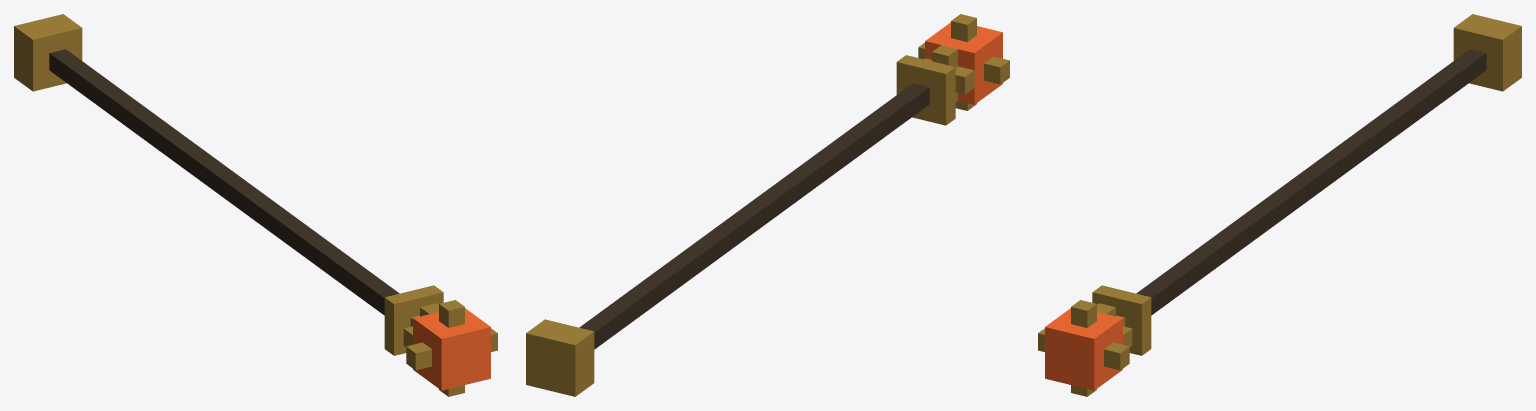
Rendered from vox_staff_prism.glb.
3 renders of one model, left to right at view 1: azimuth 30°, elevation 25°; view 2: azimuth 150°, elevation 25°; view 3: azimuth 330°, elevation 25°, orthographic.
Parts seen in each view (by area): view 1: vox_staff_prism; view 2: vox_staff_prism; view 3: vox_staff_prism.
Boxes of the visible parts, x1,y1,x2,y2 form: vox_staff_prism: (14,14,497,396); vox_staff_prism: (526,14,1009,396); vox_staff_prism: (1038,14,1521,396).
Size of the model in its own units: 0.1 by 0.1 by 0.9.
